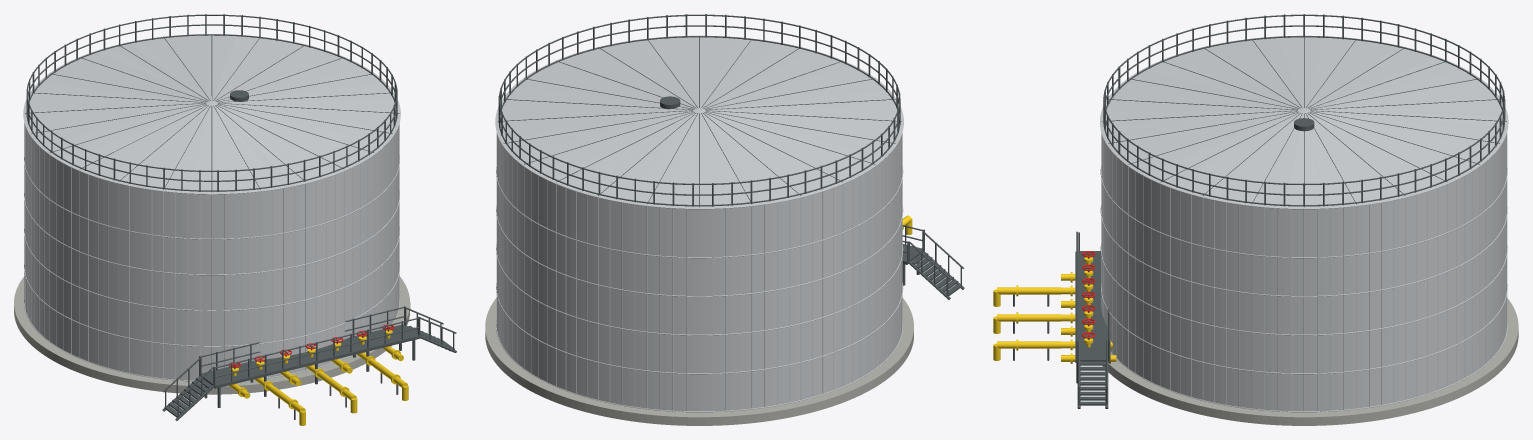
File: reservoir.glb
The picture shows the model from 3 angles, left to right: view 1: azimuth 30°, elevation 25°; view 2: azimuth 150°, elevation 25°; view 3: azimuth 270°, elevation 25°; orthographic projection. The views are drawn at different scales.
Visible parts, largest first — view 1: Reservoir 3000 m3; view 2: Reservoir 3000 m3; view 3: Reservoir 3000 m3.
Part boxes in pixels (<box>): Reservoir 3000 m3: <box>14,14,456,425</box>; Reservoir 3000 m3: <box>485,14,964,425</box>; Reservoir 3000 m3: <box>993,14,1518,425</box>.
Bounding box in the file's own units: 20.1 × 12.24 × 24.62.
Materials: 1 (1 with a texture image).
